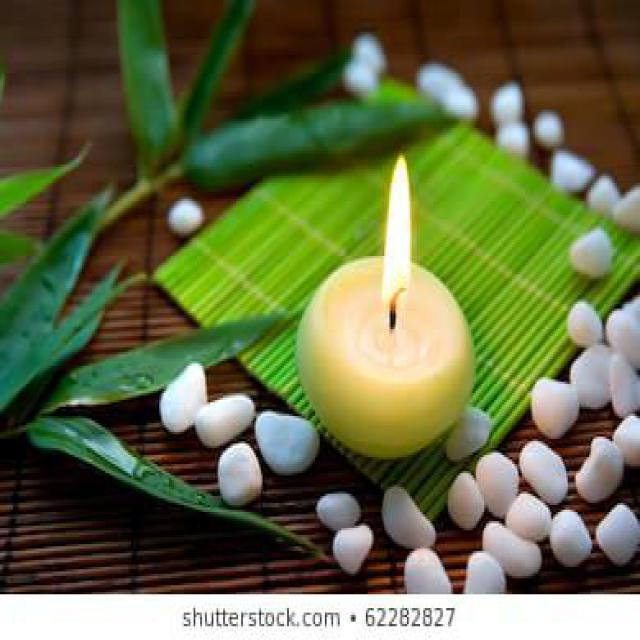Fire: (382, 156, 412, 316)
